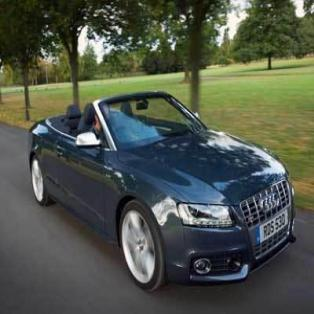Auto: (29, 92, 297, 293)
